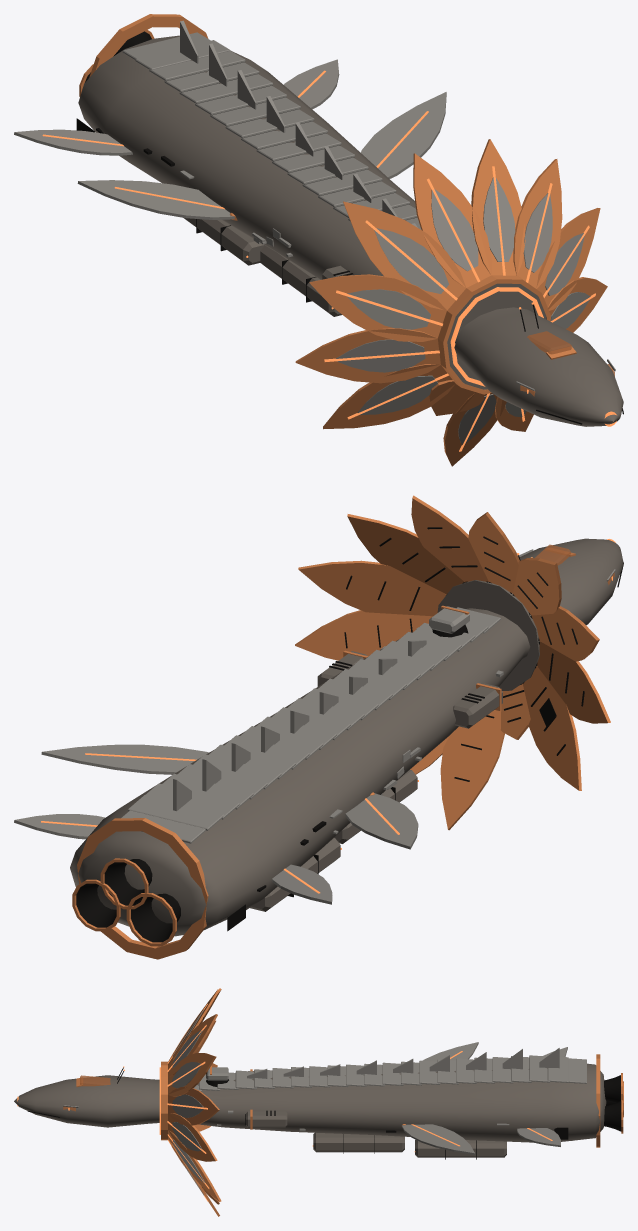
The model's file is kryza-heliotropi-trade-17-lod0.glb.
The picture shows the model from 3 angles, top to bottom: view 1: azimuth 30°, elevation 25°; view 2: azimuth 150°, elevation 25°; view 3: azimuth 270°, elevation 25°; orthographic projection. The views are drawn at different scales.
Bounding box in the file's own units: 20.46 × 17.24 × 46.72.
